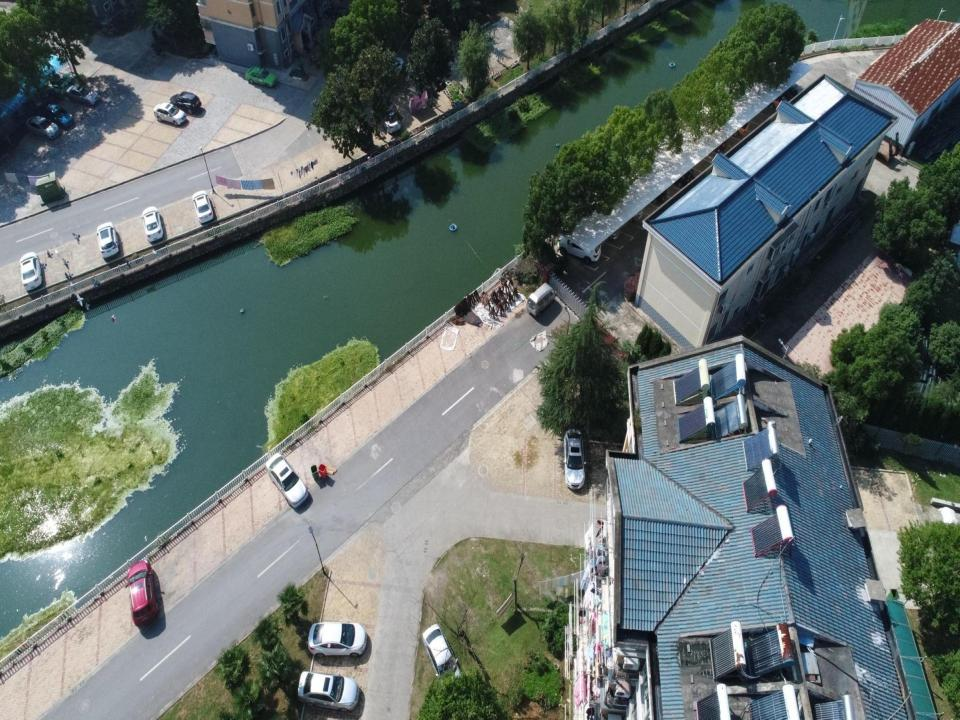car: (421, 623, 462, 693), (295, 670, 359, 713), (265, 453, 309, 509), (125, 559, 160, 627), (307, 618, 366, 658), (562, 429, 587, 490), (558, 234, 602, 264), (17, 251, 42, 293), (659, 160, 696, 188), (24, 115, 60, 141), (377, 98, 401, 135), (96, 222, 120, 259), (587, 217, 621, 243), (141, 206, 164, 244), (43, 102, 74, 130), (153, 102, 187, 127), (66, 83, 101, 107), (380, 56, 404, 90), (170, 90, 202, 115), (244, 65, 277, 89), (192, 189, 214, 224), (614, 197, 644, 222), (640, 181, 668, 202)
van: (526, 282, 556, 318)
